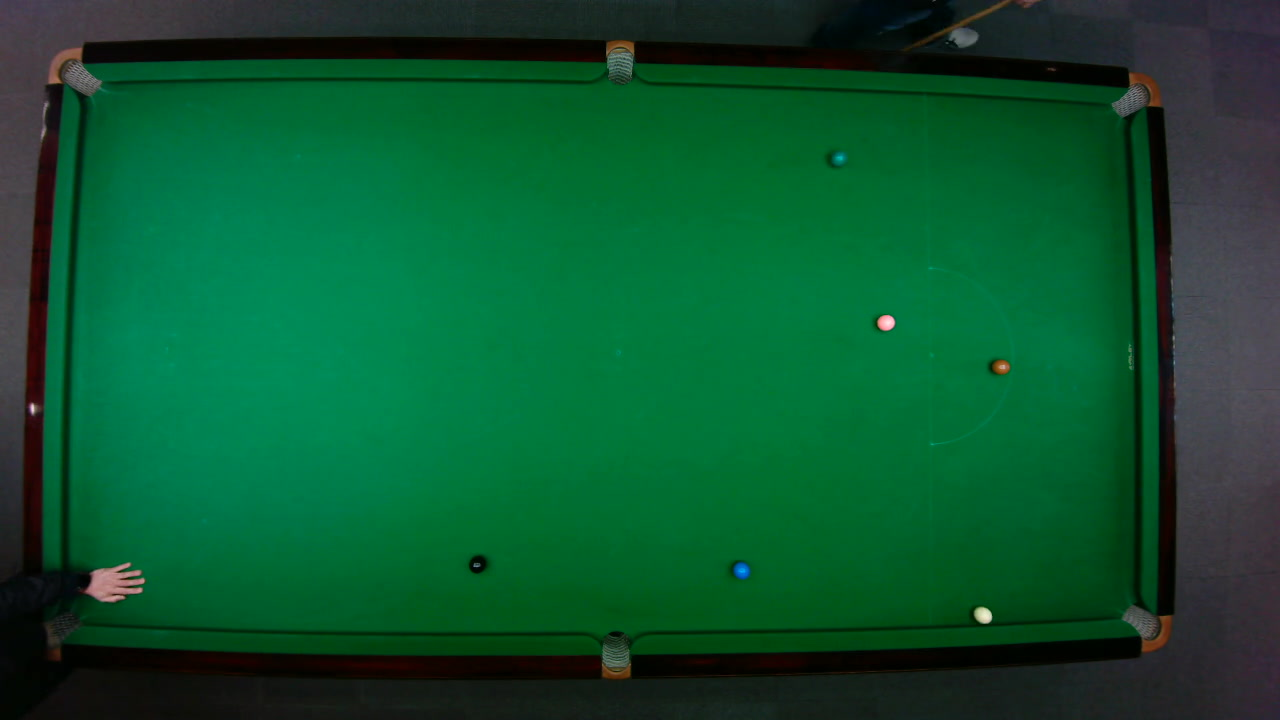bag: (21, 607, 78, 664), (45, 46, 102, 96), (1119, 603, 1172, 652), (1108, 71, 1161, 118), (600, 629, 630, 680), (605, 38, 633, 85)
black: (467, 554, 486, 573)
blue: (731, 560, 750, 579)
brown: (990, 358, 1010, 374)
green: (828, 149, 847, 167)
pink: (875, 313, 896, 331)
white: (971, 605, 992, 624)
zone: (927, 265, 1012, 445)
